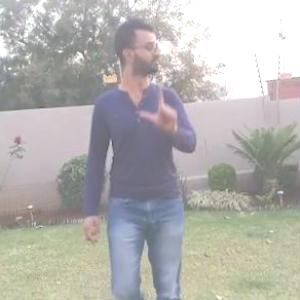land_hand: (136, 76, 182, 134)
